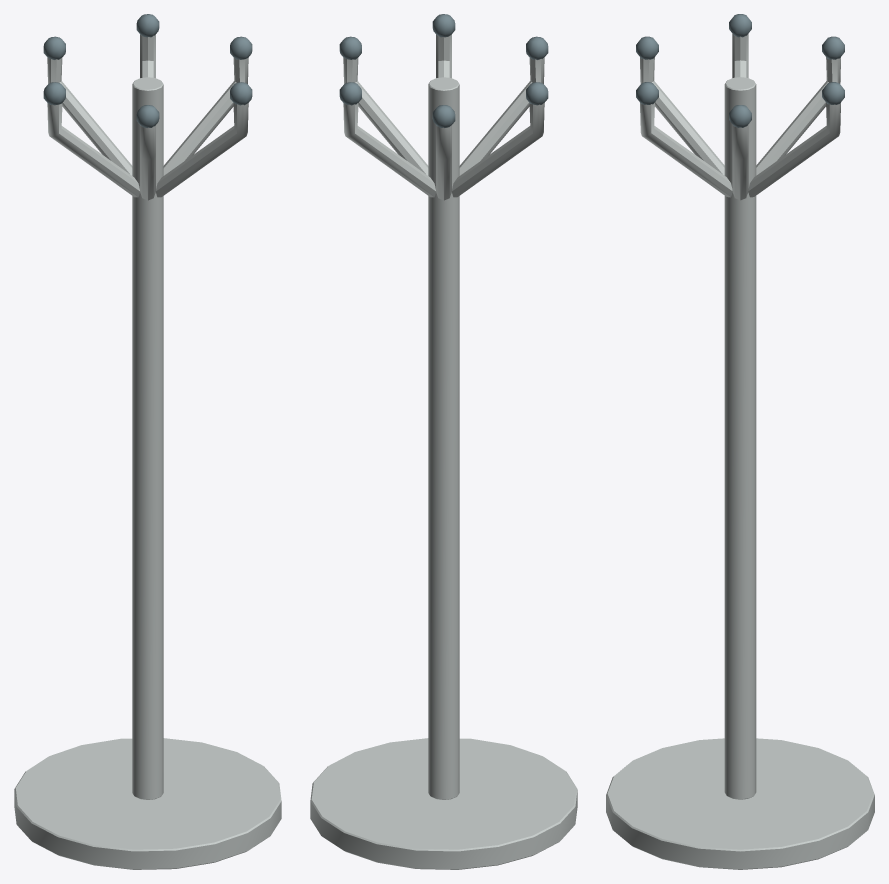
Rendered from coat-stand.glb.
3 renders of one model, left to right at view 1: azimuth 30°, elevation 25°; view 2: azimuth 150°, elevation 25°; view 3: azimuth 270°, elevation 25°, orthographic.
Visible parts, largest first — view 1: coat_stand_base, coat_stand_pole, coat_hook.001, coat_hook.003, coat_hook.004, coat_hook, coat_hook.002, coat_hook.005; view 2: coat_stand_base, coat_stand_pole, coat_hook.005, coat_hook.003, coat_hook.002, coat_hook, coat_hook.004, coat_hook.001; view 3: coat_stand_base, coat_stand_pole, coat_hook.001, coat_hook.005, coat_hook.002, coat_hook.004, coat_hook, coat_hook.003.
Boxes of the visible parts, x1,y1,x2,y2 form: coat_stand_base: (14,738,281,869); coat_stand_pole: (132,77,163,799); coat_hook.001: (156,103,248,197); coat_hook.003: (47,103,139,197); coat_hook.004: (47,57,132,175); coat_hook: (163,58,248,175); coat_hook.002: (140,125,155,200); coat_hook.005: (140,34,155,77); coat_stand_base: (310,738,577,869); coat_stand_pole: (428,77,459,799); coat_hook.005: (343,103,435,197); coat_hook.003: (452,103,544,197); coat_hook.002: (459,57,544,175); coat_hook: (343,58,428,175); coat_hook.004: (436,125,451,200); coat_hook.001: (436,34,451,77); coat_stand_base: (606,738,874,869); coat_stand_pole: (724,77,756,799); coat_hook.001: (640,102,732,197); coat_hook.005: (748,102,840,197); coat_hook.002: (640,57,724,175); coat_hook.004: (756,57,840,175); coat_hook: (732,124,748,200); coat_hook.003: (732,34,748,77).
Size of the model in its own units: 0.6 by 1.86 by 0.6.
